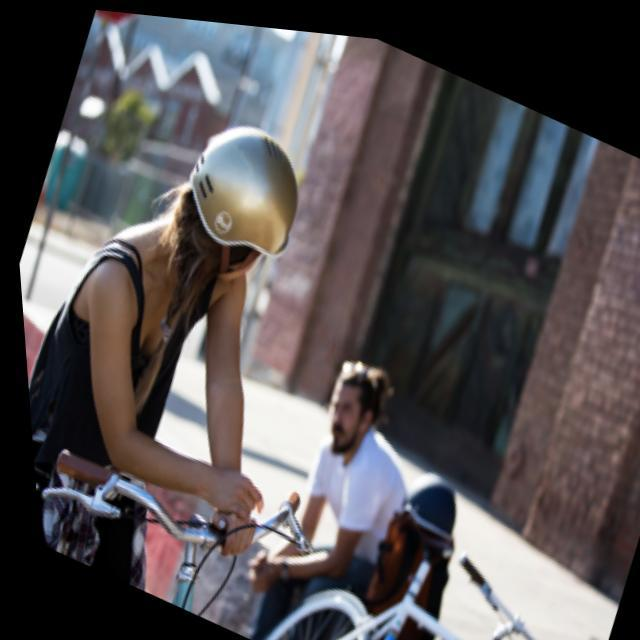Helmet: (169, 120, 308, 294)
